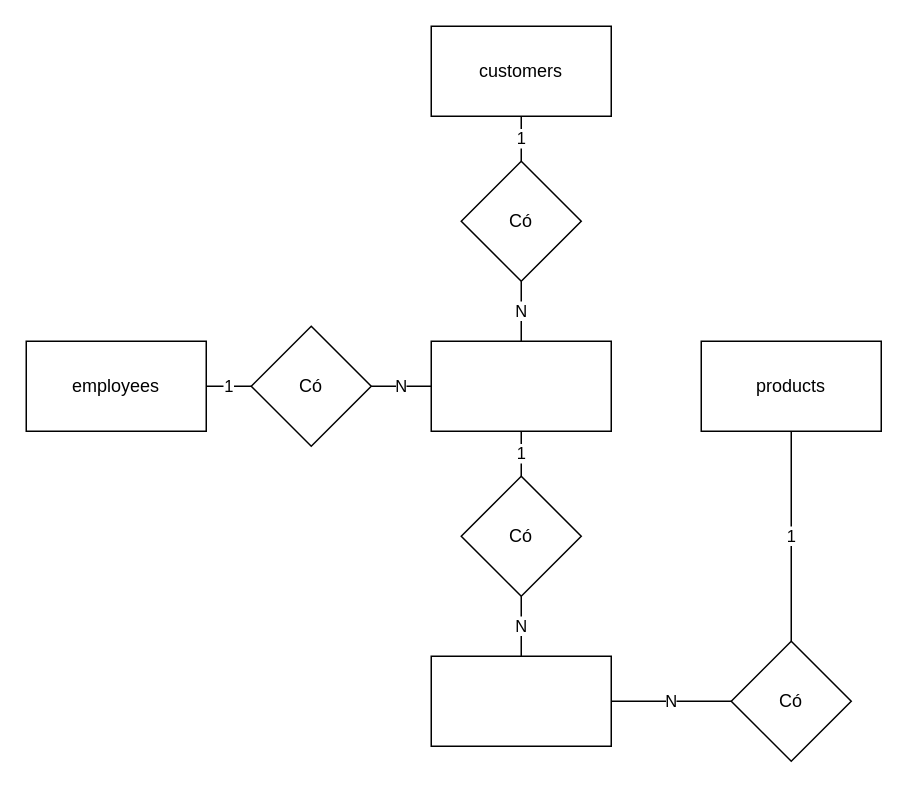
This 908x788 diagram has some shape labels left out. The centre of each missing label's shape, as x and y in pixels:
order_details: point (520, 700)
orders: point (520, 385)
